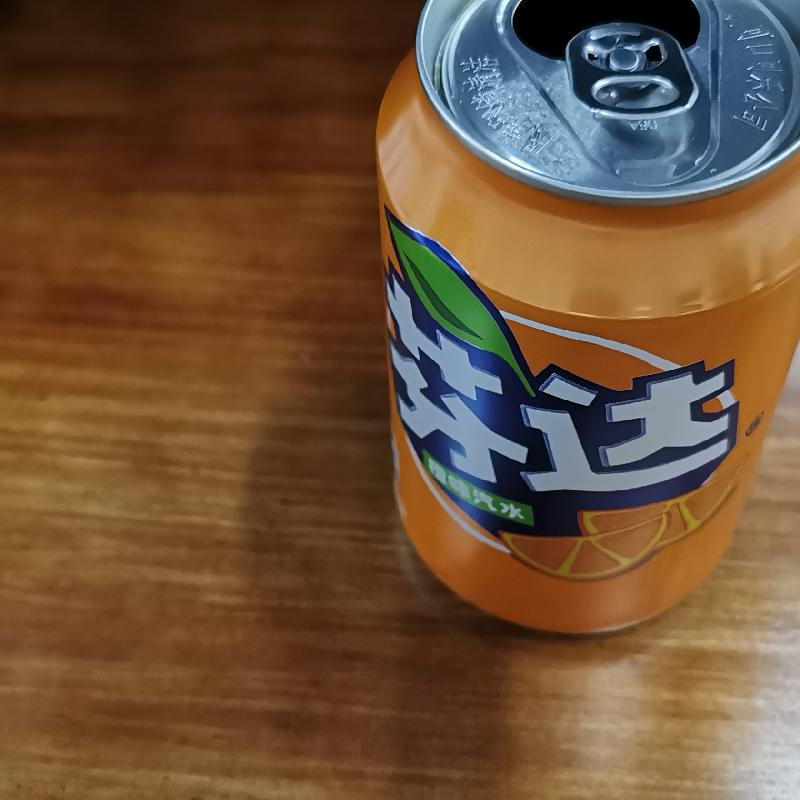cans: (367, 1, 800, 642)
